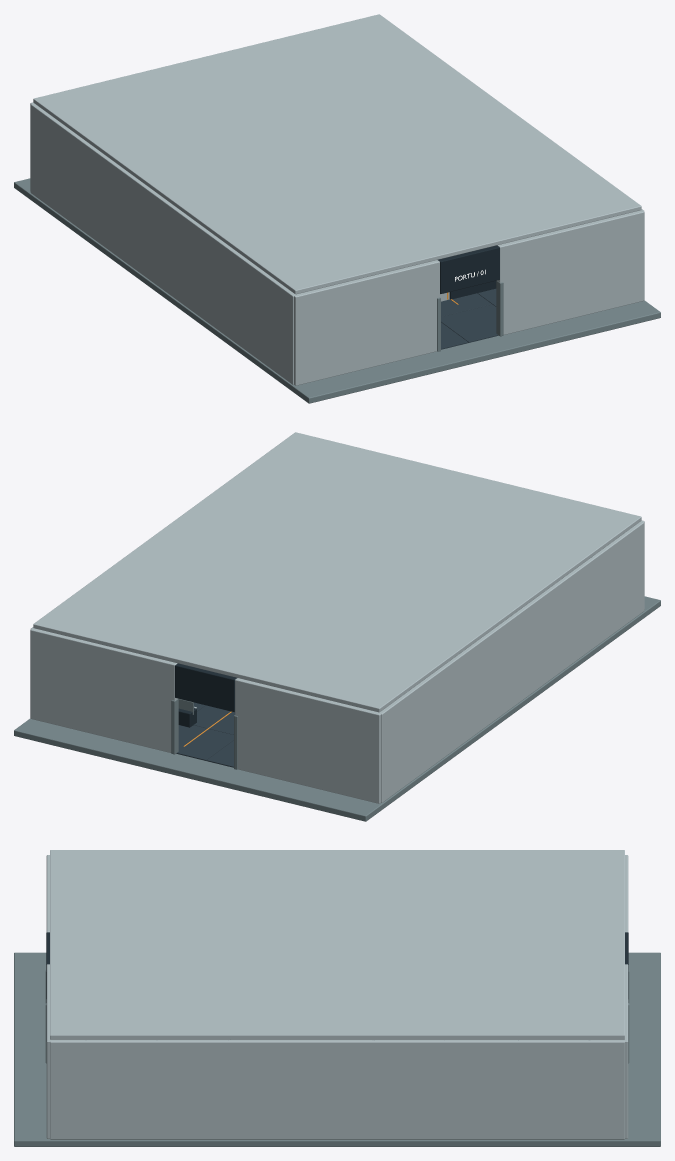
File: cargo_lift_dock.glb
The picture shows the model from 3 angles, top to bottom: view 1: azimuth 30°, elevation 25°; view 2: azimuth 150°, elevation 25°; view 3: azimuth 270°, elevation 25°; orthographic projection. The views are drawn at different scales.
Parts seen in each view (by area): view 1: roof_cutaway_mesh, front_cutaway_mesh, structure_mesh, floor_tiles_mesh; view 2: roof_cutaway_mesh, structure_mesh, floor_tiles_mesh; view 3: roof_cutaway_mesh, structure_mesh, floor_tiles_mesh, front_cutaway_mesh.
Boxes of the visible parts, x1,y1,x2,y2 form: roof_cutaway_mesh: [33, 14, 641, 294]; front_cutaway_mesh: [294, 210, 644, 385]; structure_mesh: [30, 102, 644, 384]; floor_tiles_mesh: [14, 178, 660, 403]; roof_cutaway_mesh: [33, 432, 641, 712]; structure_mesh: [30, 522, 644, 803]; floor_tiles_mesh: [14, 596, 660, 821]; roof_cutaway_mesh: [50, 850, 624, 1039]; structure_mesh: [50, 855, 629, 1139]; floor_tiles_mesh: [14, 952, 660, 1146]; front_cutaway_mesh: [45, 855, 52, 1138].
Bounding box in the file's own units: 24.8 × 6.78 × 36.
